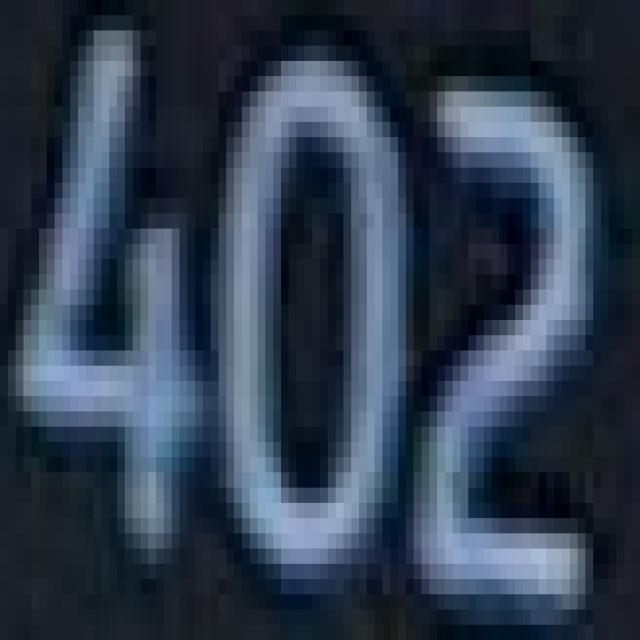character: (0, 12, 214, 582), (216, 46, 410, 602), (413, 69, 607, 620)
